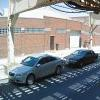Car: (7, 47, 98, 83)
